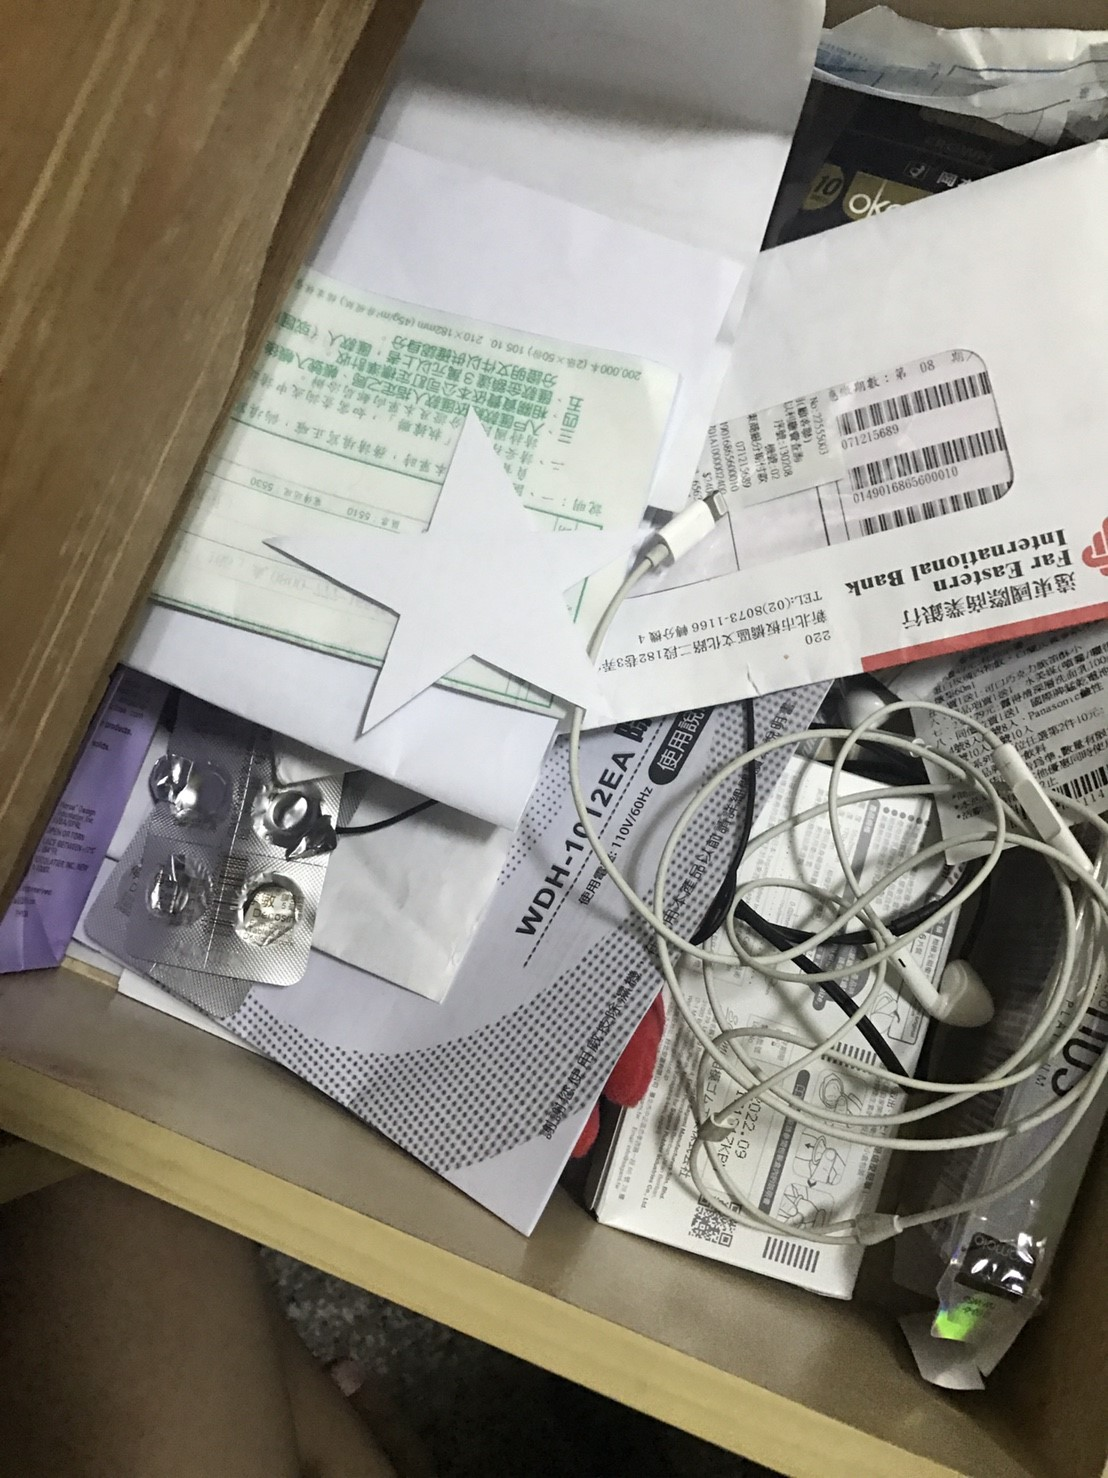star: (234, 388, 662, 754)
